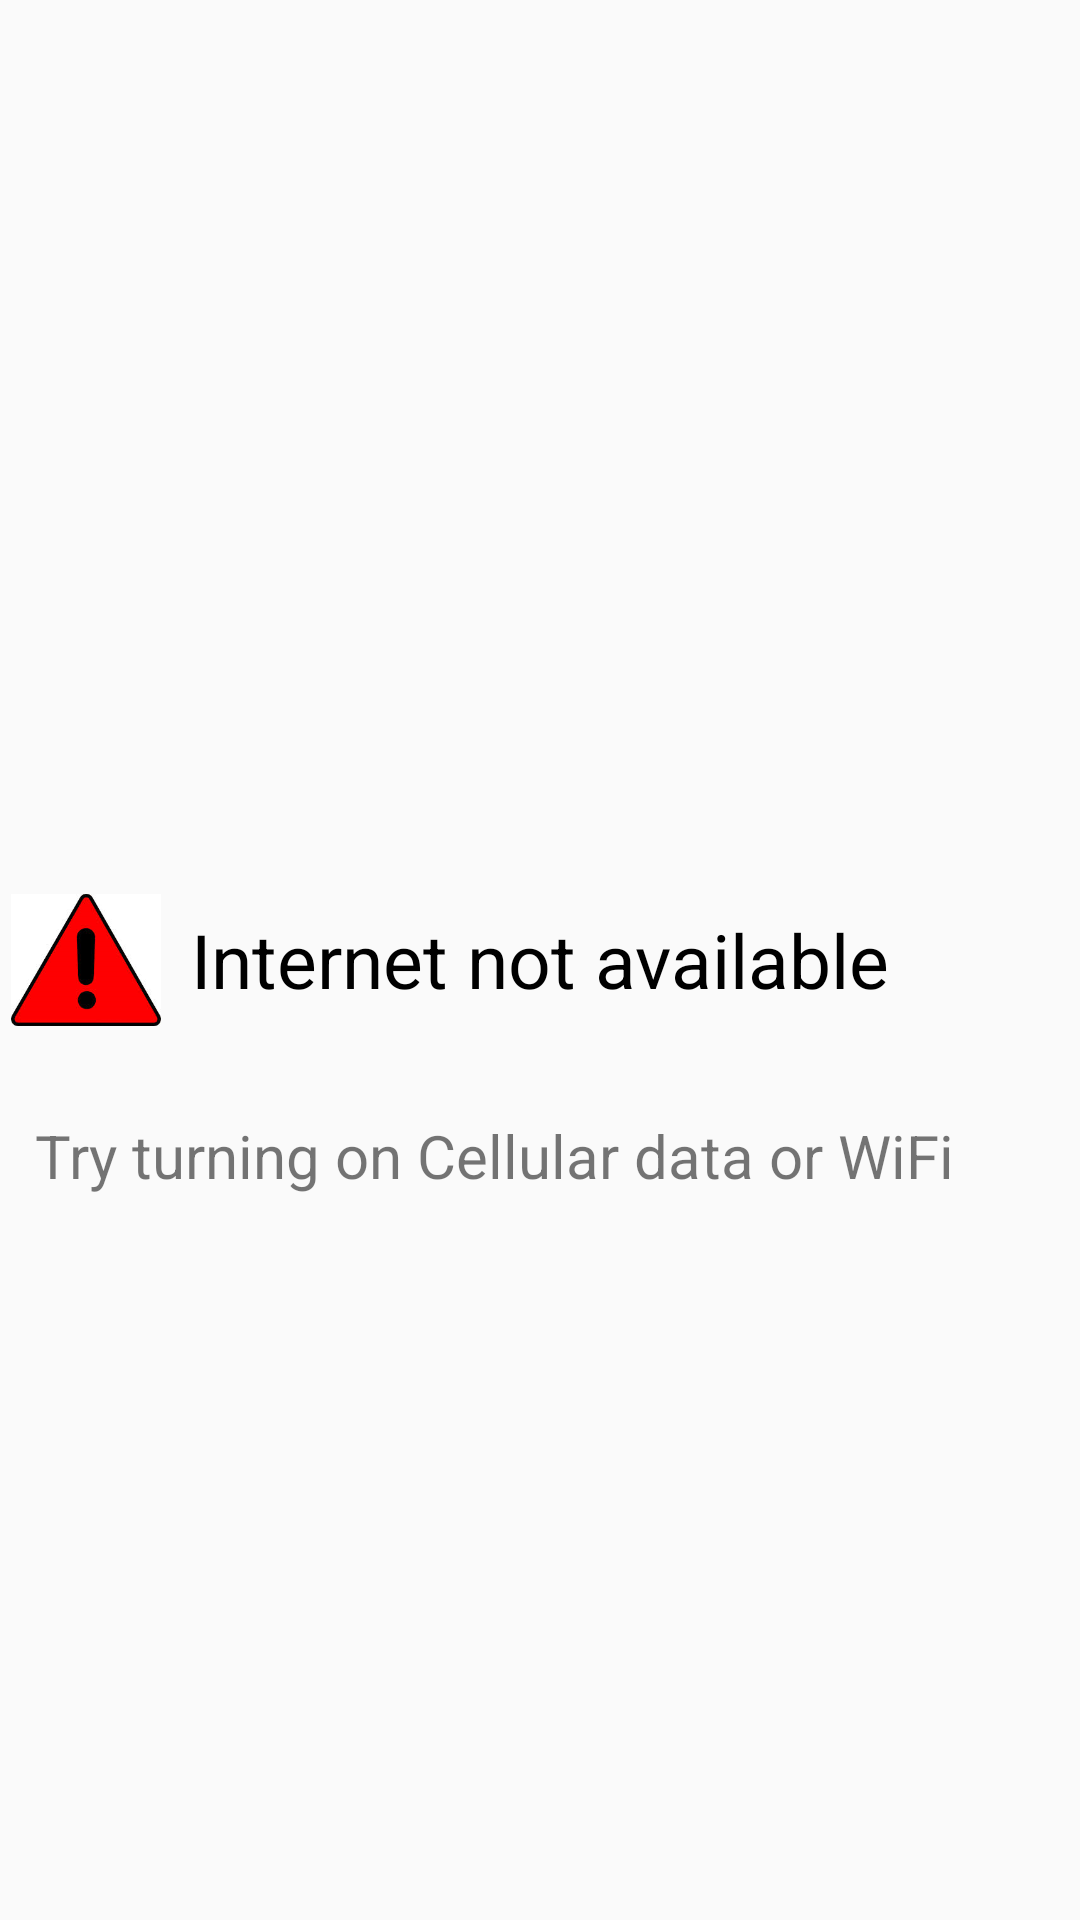

Icons on this 1080px×1920px Android screen, each with the point to tap as (x,y):
alert: (86,960)
